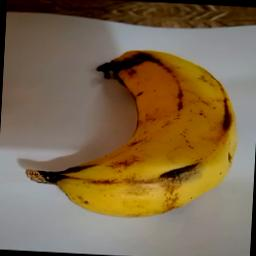Banana Unripe: (21, 42, 244, 224)
